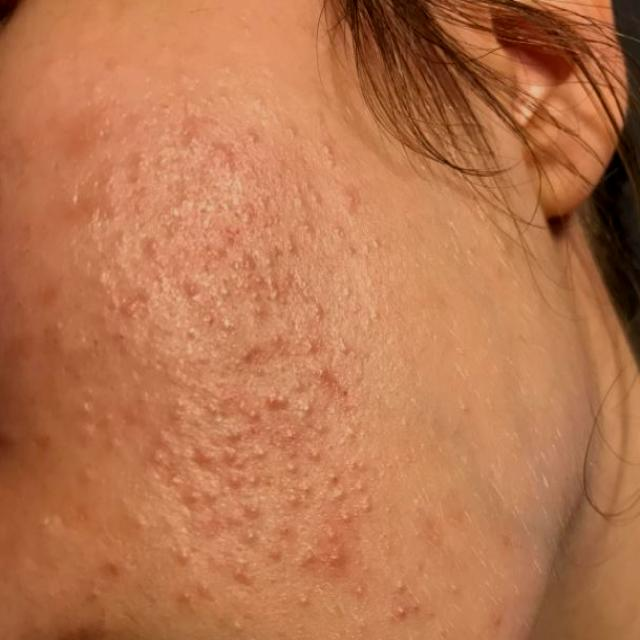fungal: (81, 90, 361, 612)
